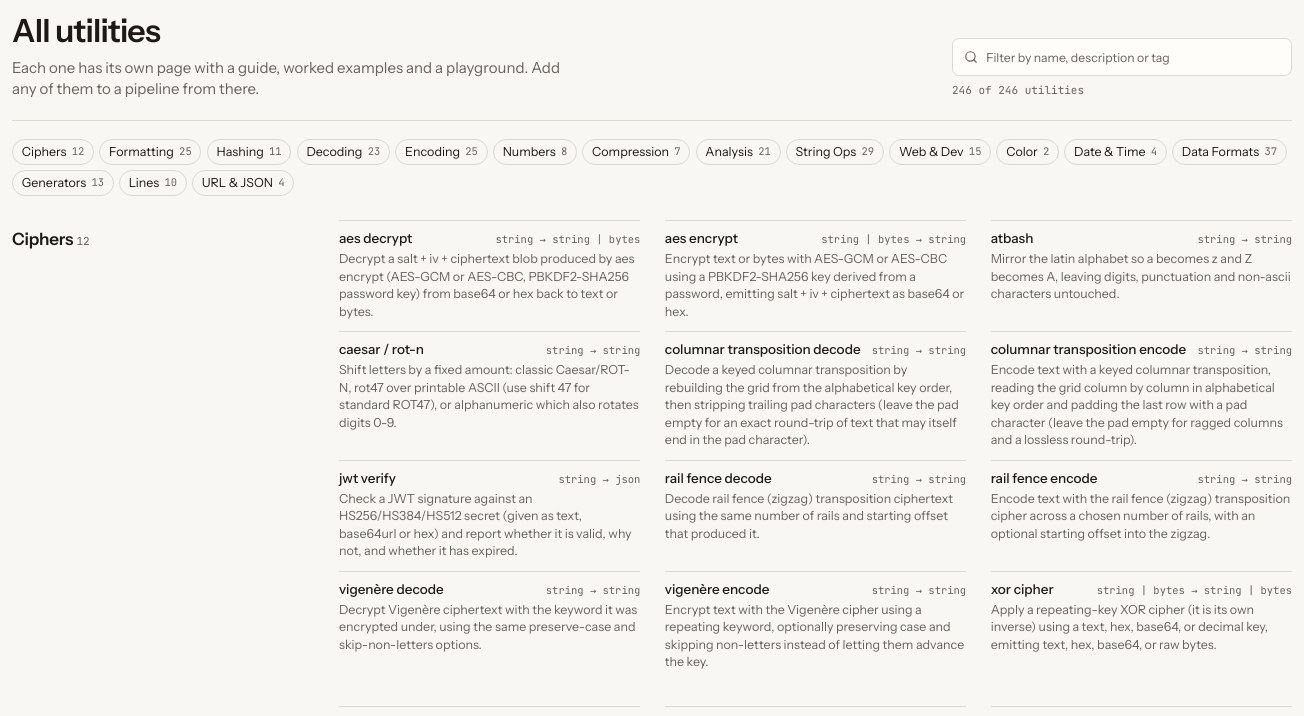
Test case: UtilitiesIndexPage › shows a message when nothing matches
Type "zzzznotarealutility" into the search field named "Filter utilities" at (1133, 57), box [986,48,1281,66]
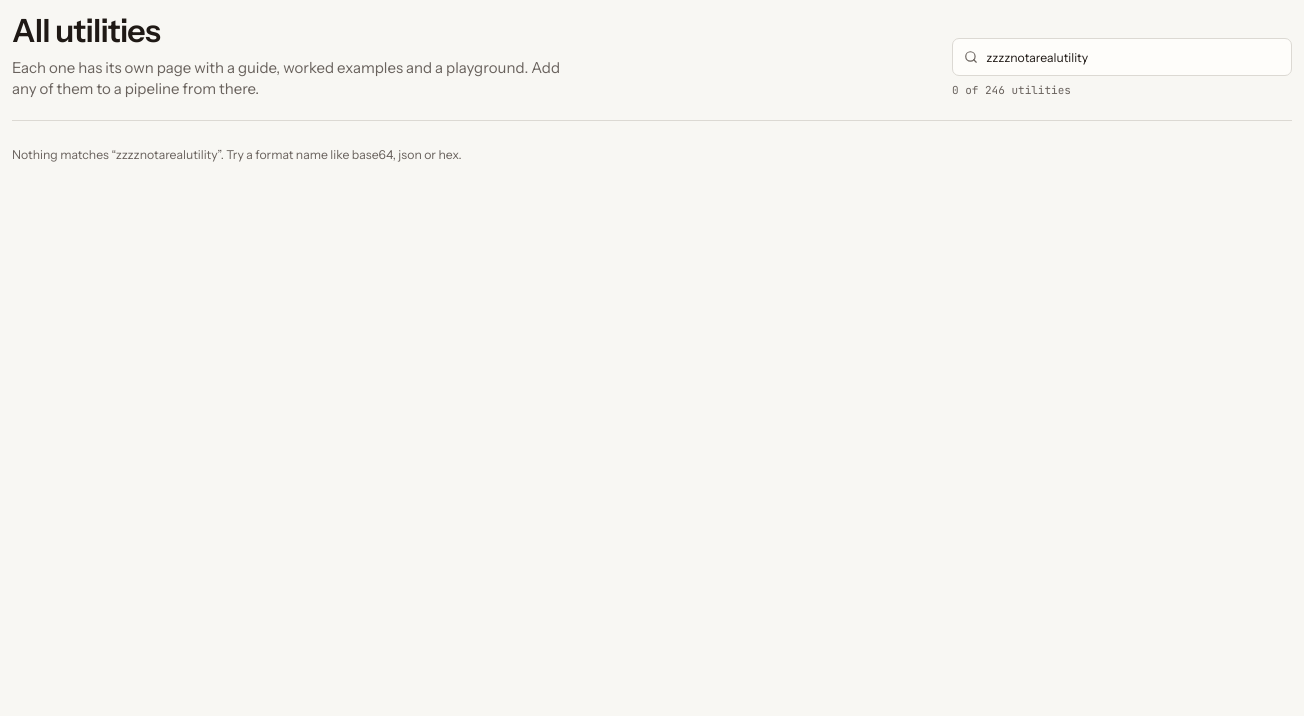
Expected: the text "Nothing matches “zzzznotarealutility”. Try a format name like base64, json or hex." is shown, [12,146,462,162]
Expected: the message shows "0 of", [952,82,1071,96]
